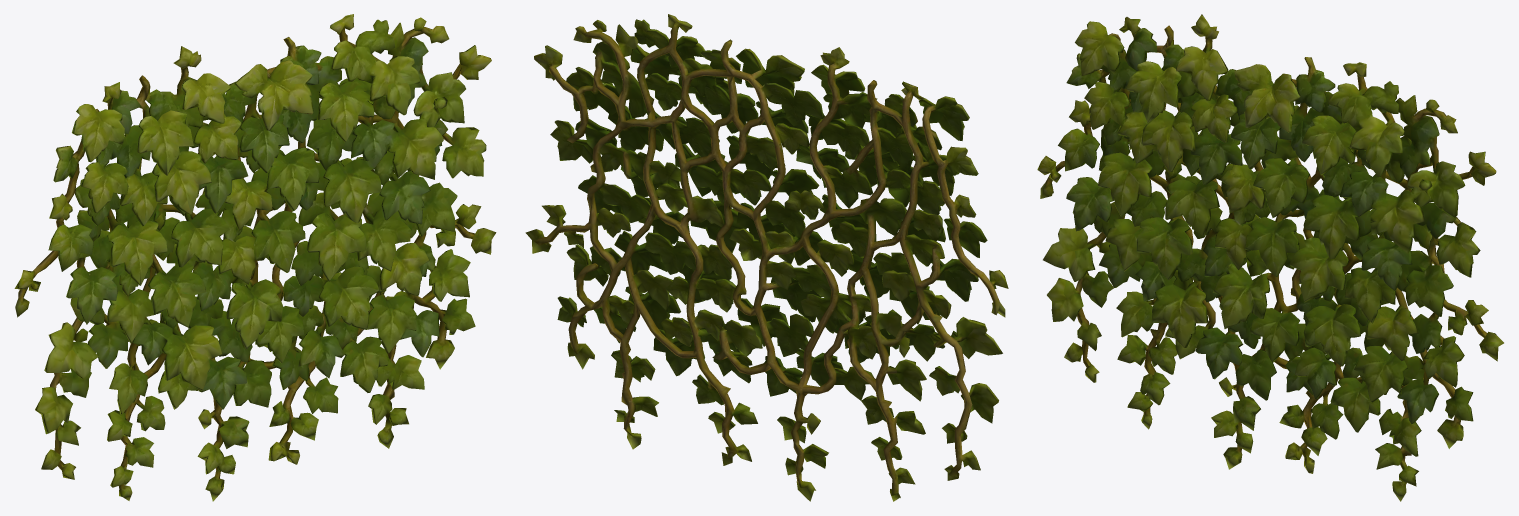
File: trim_ivy.glb
The picture shows the model from 3 angles, left to right: view 1: azimuth 30°, elevation 25°; view 2: azimuth 150°, elevation 25°; view 3: azimuth 330°, elevation 25°; orthographic projection. The views are drawn at different scales.
Parts seen in each view (by area): view 1: tripo_node_f0862ed5-a874-4522-a632-160e0993ad66; view 2: tripo_node_f0862ed5-a874-4522-a632-160e0993ad66; view 3: tripo_node_f0862ed5-a874-4522-a632-160e0993ad66.
Boxes of the visible parts, <box> form: tripo_node_f0862ed5-a874-4522-a632-160e0993ad66: <box>14,14,496,501</box>; tripo_node_f0862ed5-a874-4522-a632-160e0993ad66: <box>525,14,1008,501</box>; tripo_node_f0862ed5-a874-4522-a632-160e0993ad66: <box>1037,14,1503,501</box>.
Bounding box in the file's own units: 0.9798 × 0.8969 × 0.088.
Materials: 1 (1 with a texture image).
